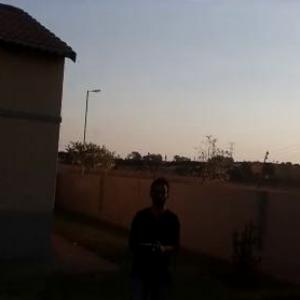follow: (121, 170, 184, 299)
